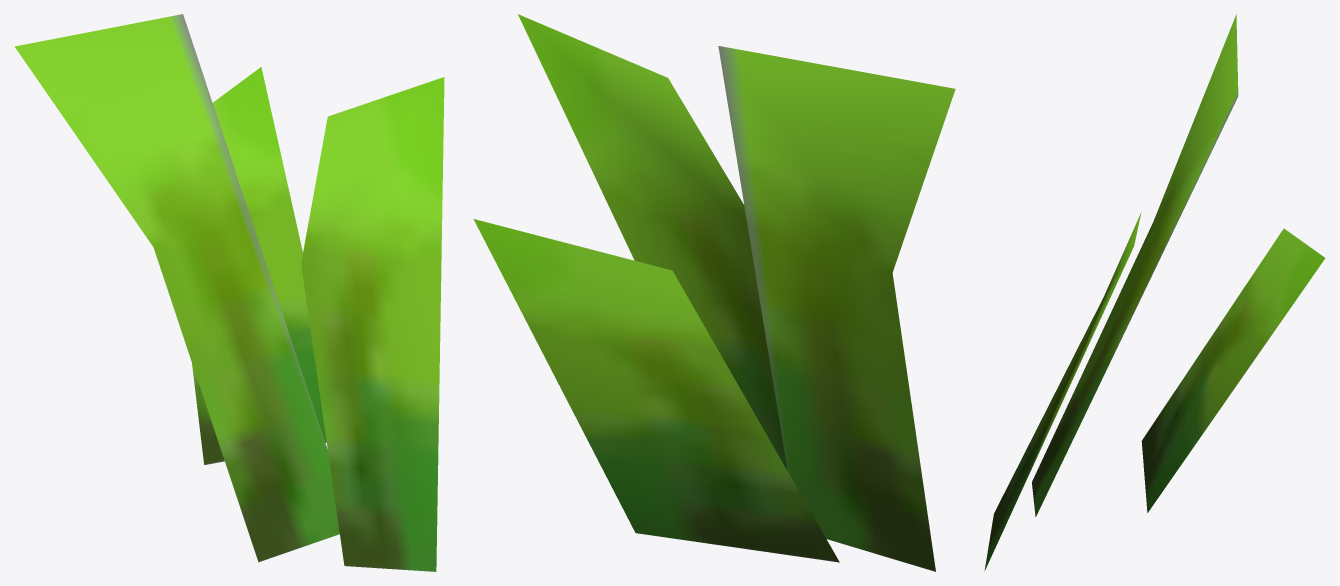
The model's file is fg_grassD.dae.
3 views of the same model, side by side, from view 1: azimuth 30°, elevation 25°; view 2: azimuth 150°, elevation 25°; view 3: azimuth 270°, elevation 25° (orthographic). The views are drawn at different scales.
Visible parts, largest first — view 1: fg_grassD; view 2: fg_grassD; view 3: fg_grassD.
Part boxes in pixels (x1,y1,x2,y2): fg_grassD: (14, 14, 444, 571); fg_grassD: (473, 14, 955, 571); fg_grassD: (984, 14, 1325, 570).
Size of the model in its own units: 14.73 by 18.52 by 13.13.
1 material, 1 textured.
